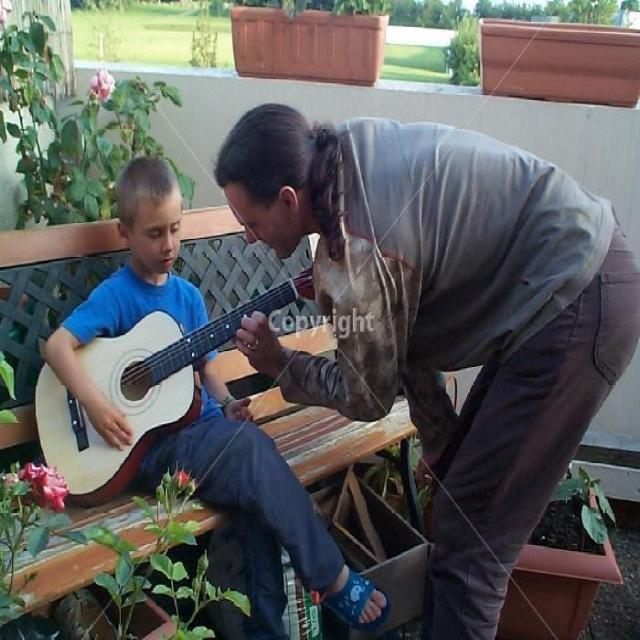guitar: (33, 255, 375, 501)
